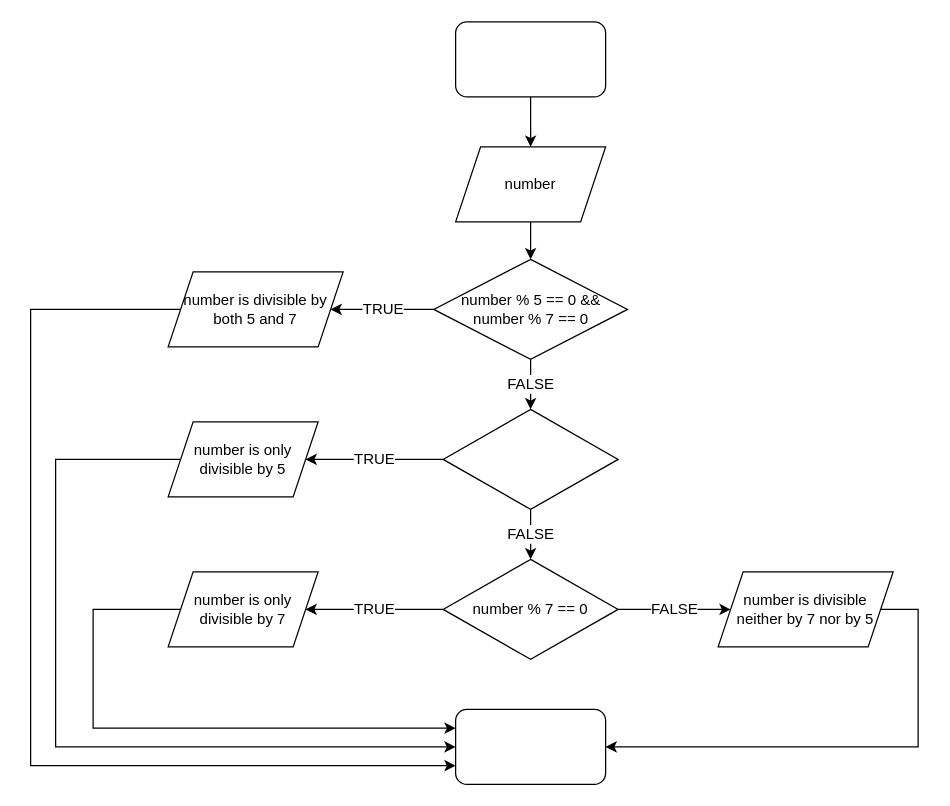
The diagram is 950 pixels wide and 806 high, and some of its shapes have lost their labels. Here are the shapes that lost their labels. From the top down, the centre of each, then its label:
At pixel 530 59: "START".
At pixel 530 458: "number % 5 == 0".
At pixel 530 746: "FINISH".
